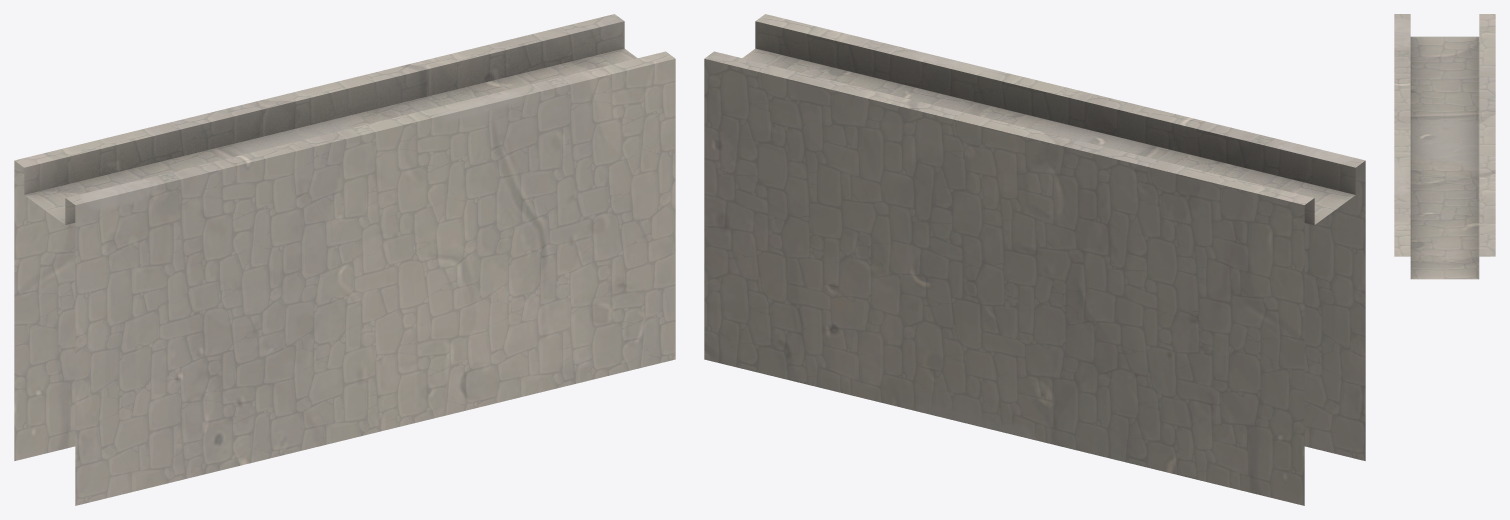
File: Castillo_muro.fbx
3 renders of one model, left to right at view 1: azimuth 30°, elevation 25°; view 2: azimuth 150°, elevation 25°; view 3: azimuth 270°, elevation 25°, orthographic. The views are drawn at different scales.
Parts seen in each view (by area): view 1: Obj_Muro_exterior; view 2: Obj_Muro_exterior; view 3: Obj_Muro_exterior.
Boxes of the visible parts, bbox=[...] form: Obj_Muro_exterior: bbox=[14, 14, 675, 505]; Obj_Muro_exterior: bbox=[704, 14, 1365, 505]; Obj_Muro_exterior: bbox=[1394, 14, 1495, 279].
Size of the model in its own units: 3317 by 1588 by 585.
